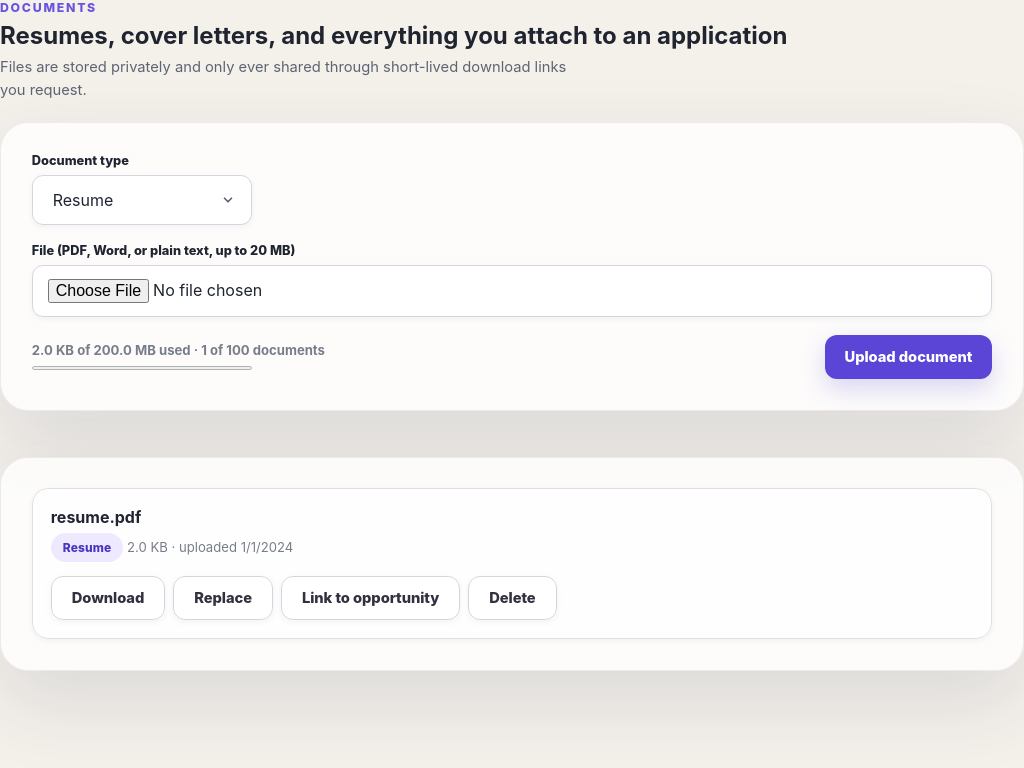
Scenario: DocumentsTab › deletes a document after confirmation from the list
Expected: the text "resume.pdf" is shown, [51,507,141,527]
Click the button "Delete" at coordinates (512, 598), box [468,576,557,620]
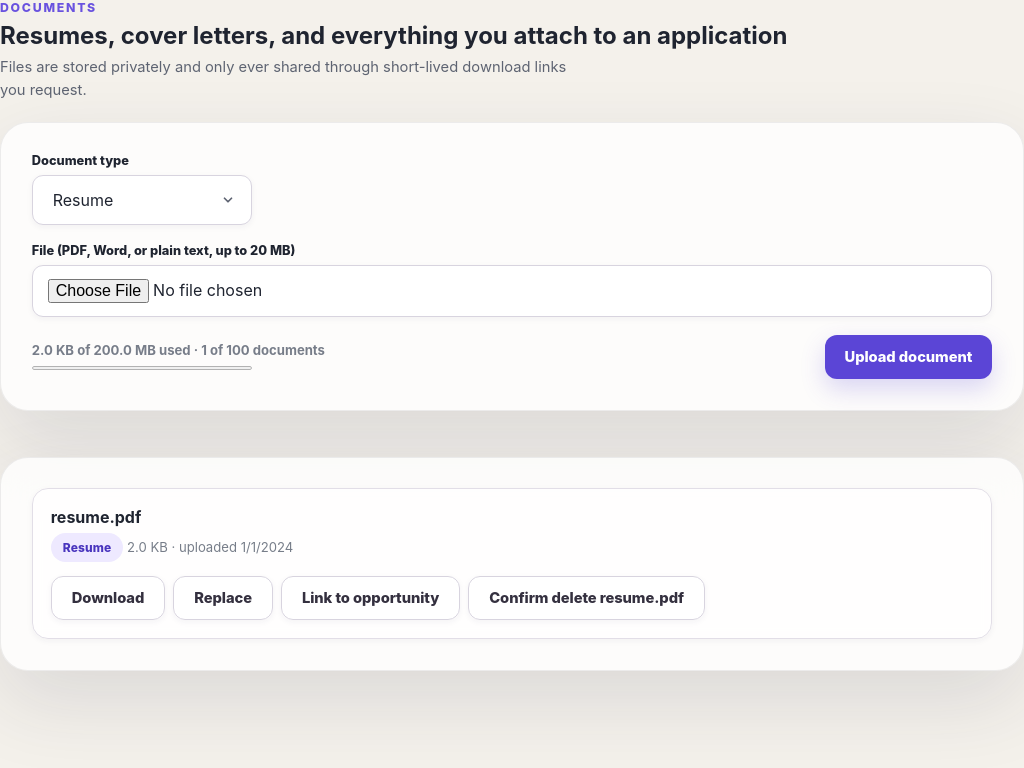
Click the button "Confirm delete resume.pdf" at coordinates (587, 598), box [468,576,705,620]
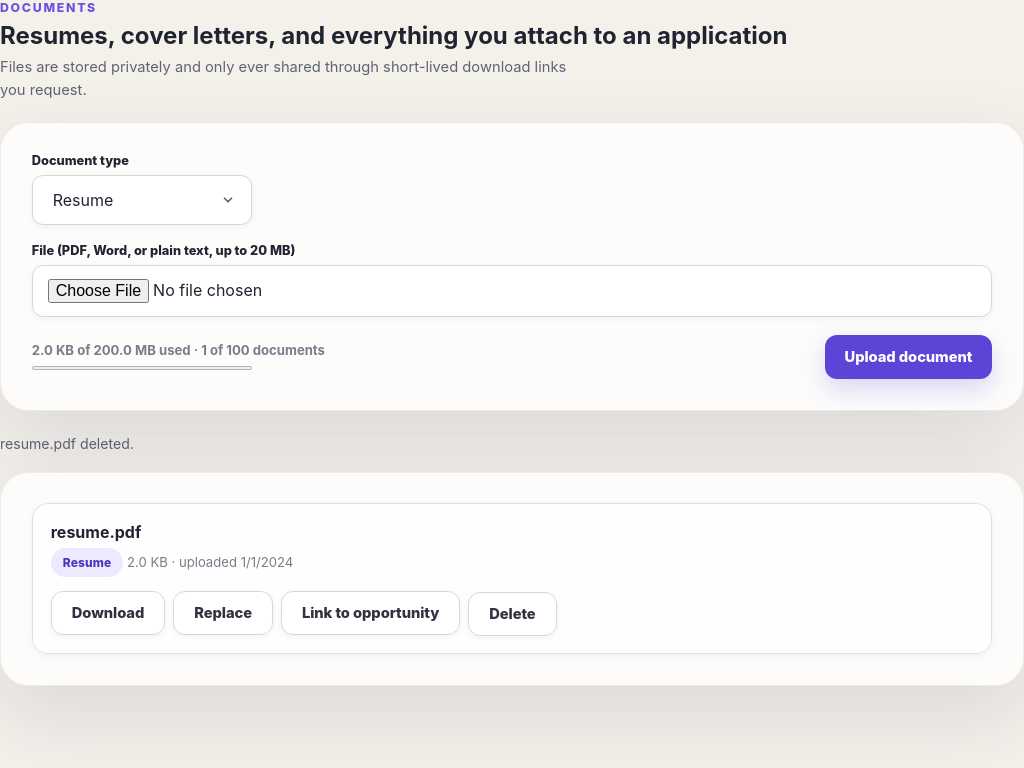
Expected: the text "resume.pdf deleted." is shown, [0,435,134,452]
